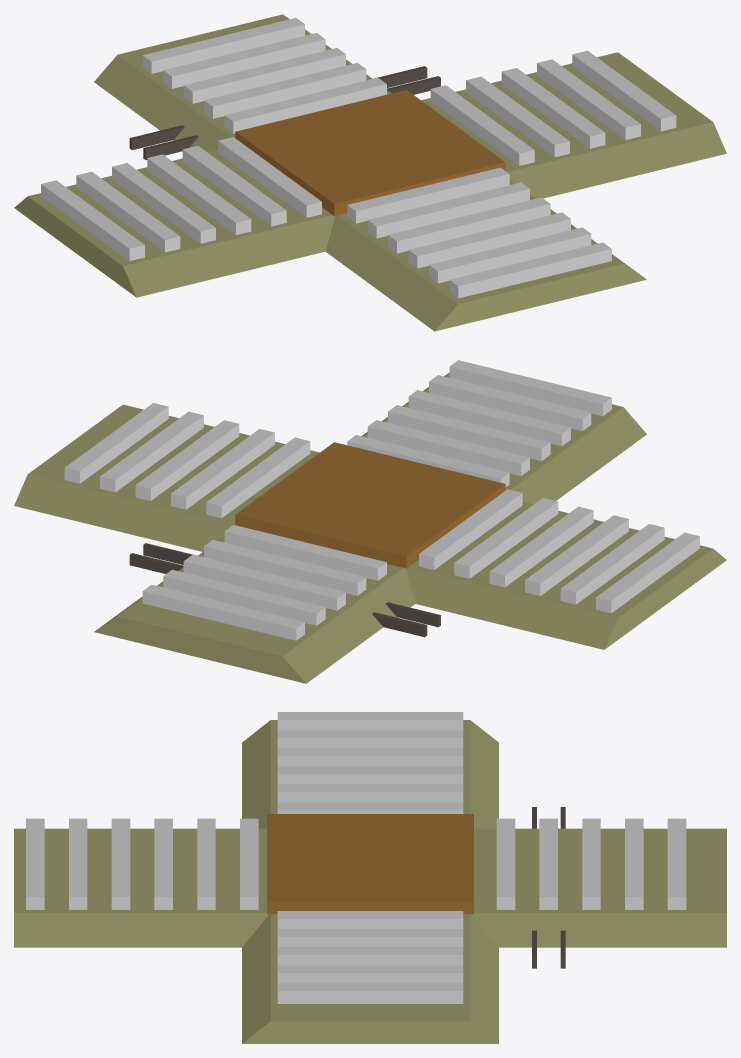
Rendered from SM_Via_Cruce_v3_Obra_LOD0.fbx.
3 renders of one model, top to bottom at view 1: azimuth 30°, elevation 25°; view 2: azimuth 150°, elevation 25°; view 3: azimuth 270°, elevation 25°, orthographic. The views are drawn at different scales.
Parts seen in each view (by area): view 1: SM_via_trazado_v43_LOD0; view 2: SM_via_trazado_v43_LOD0; view 3: SM_via_trazado_v43_LOD0.
Boxes of the visible parts, left/top/right/bottom form: SM_via_trazado_v43_LOD0: left=14, top=14, right=726, bottom=331; SM_via_trazado_v43_LOD0: left=14, top=360, right=726, bottom=683; SM_via_trazado_v43_LOD0: left=14, top=712, right=726, bottom=1043.
Size of the model in its own units: 10 by 0.552 by 10.
